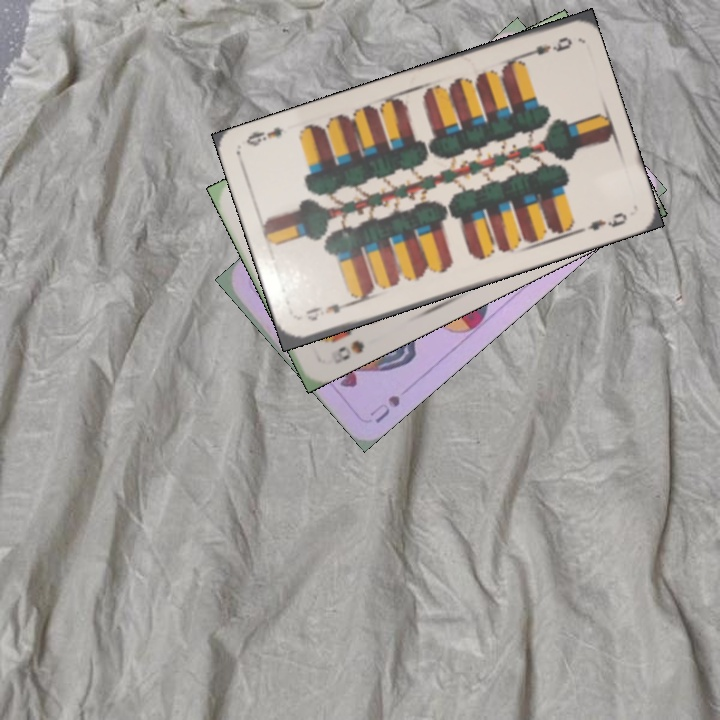E9: (517, 32, 575, 61), (302, 297, 356, 324)
S8: (334, 336, 368, 363)
SU: (365, 391, 403, 426)
